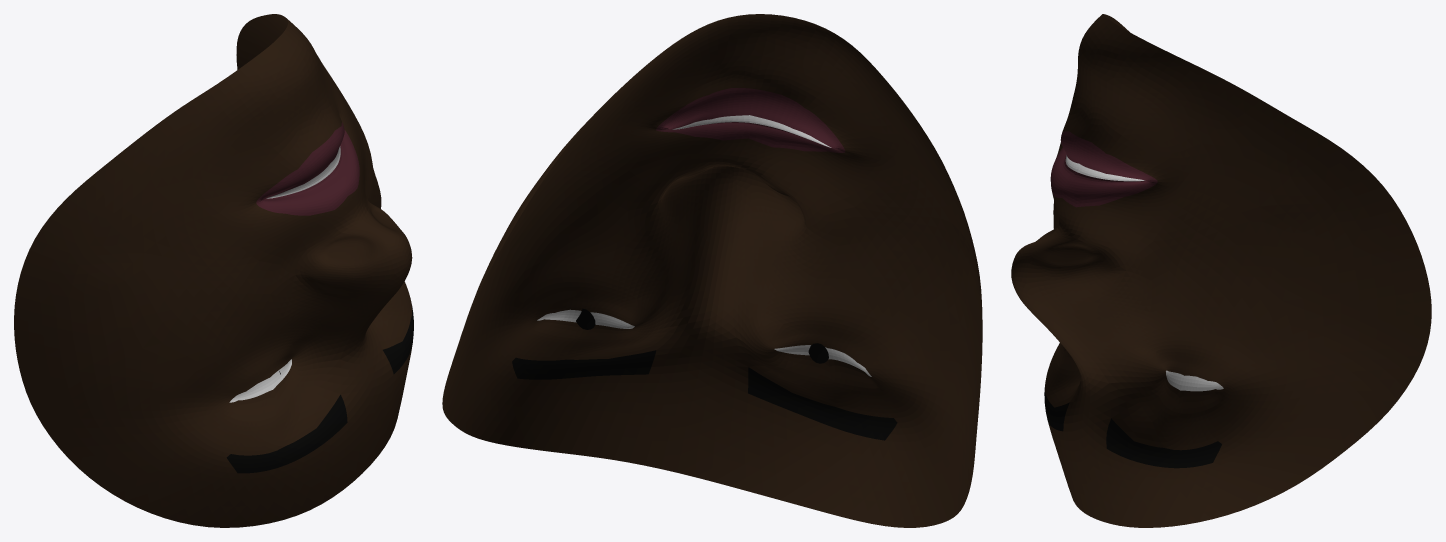
File: frame_00180.obj
The picture shows the model from 3 angles, left to right: view 1: azimuth 30°, elevation 25°; view 2: azimuth 150°, elevation 25°; view 3: azimuth 270°, elevation 25°; orthographic projection. The views are drawn at different scales.
Parts seen in each view (by area): view 1: face_mesh_subdivided; view 2: face_mesh_subdivided; view 3: face_mesh_subdivided.
Part boxes in pixels (x1,y1,x2,y2): face_mesh_subdivided: (14,14,413,527); face_mesh_subdivided: (442,14,982,527); face_mesh_subdivided: (1011,14,1431,527).
Size of the model in its own units: 0.5022 by 0.5398 by 0.4388.
